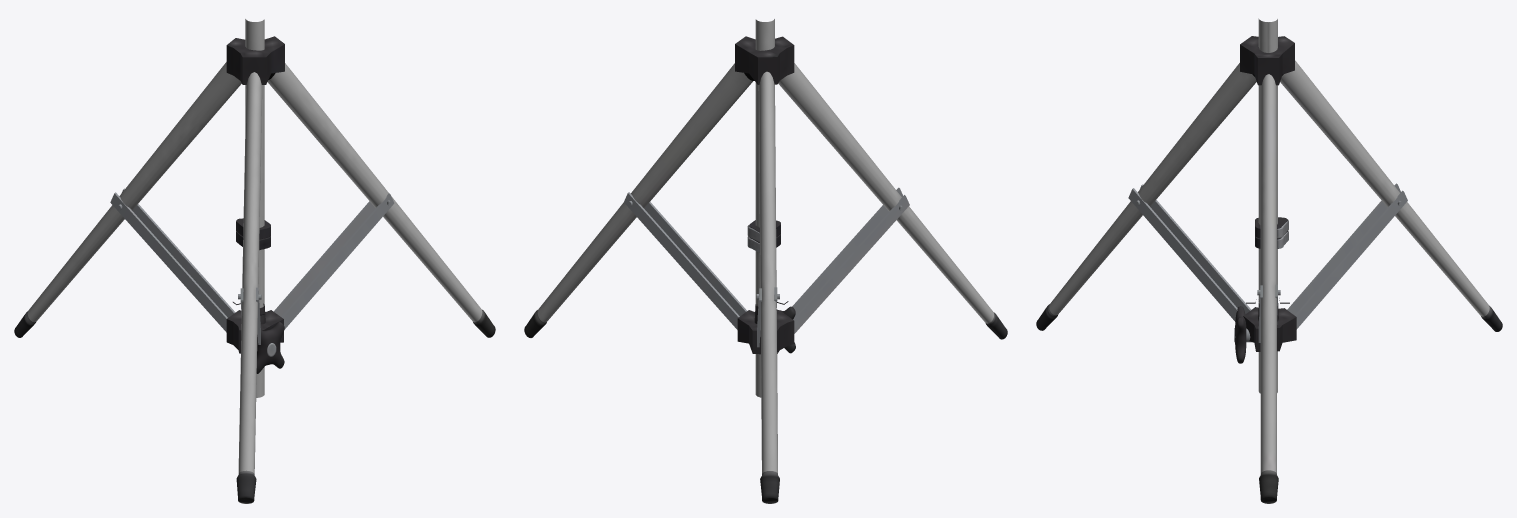
The model's file is stand-segmented.glb.
3 views of the same model, side by side, from view 1: azimuth 30°, elevation 25°; view 2: azimuth 150°, elevation 25°; view 3: azimuth 270°, elevation 25° (orthographic).
Parts seen in each view (by area): view 1: base, cap, segment; view 2: base, segment; view 3: base, cap, segment.
Boxes of the visible parts, left/top/right/bottom form: base: left=14, top=19, right=495, bottom=503; cap: left=233, top=302, right=284, bottom=397; segment: left=236, top=218, right=270, bottom=397; base: left=524, top=19, right=1007, bottom=503; segment: left=747, top=220, right=780, bottom=397; base: left=1036, top=18, right=1502, bottom=503; cap: left=1234, top=298, right=1289, bottom=393; segment: left=1255, top=217, right=1288, bottom=392.
Bounding box in the file's own units: 0.9842 × 0.96 × 1.09.
Materials: 1 (1 with a texture image).
